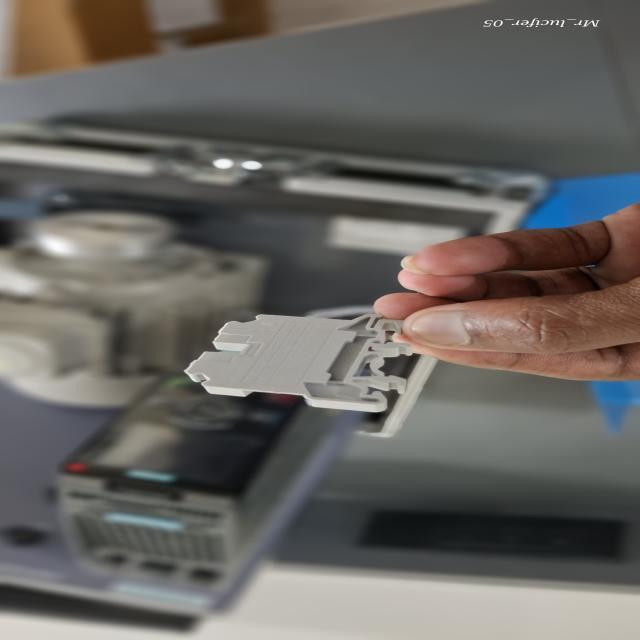Inverted: (175, 314, 422, 419)
